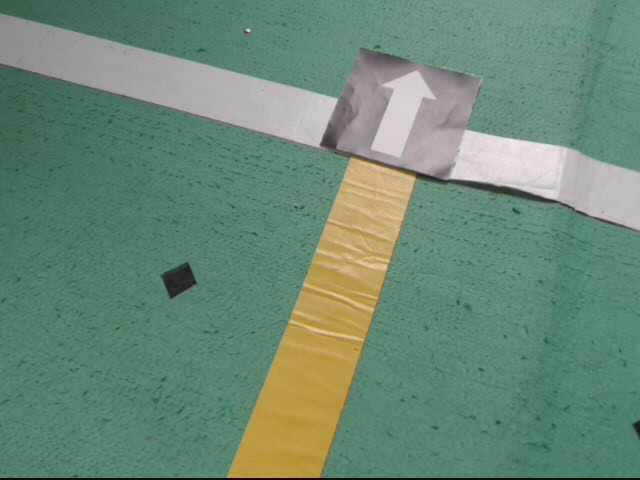straight: (321, 48, 486, 184)
